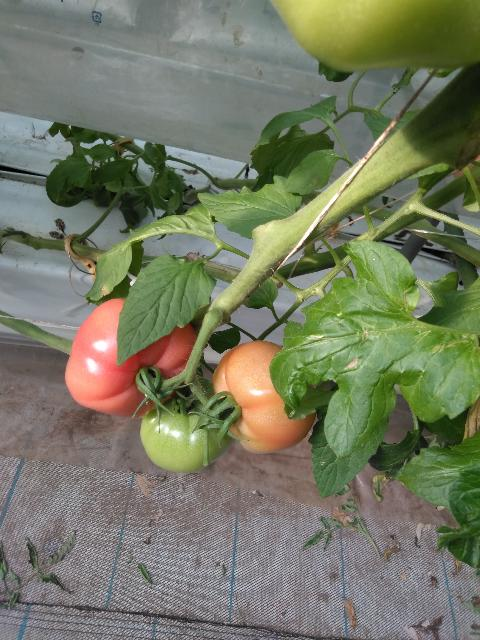b_fully_ripened: (65, 298, 197, 419)
b_green: (269, 1, 480, 72), (140, 376, 233, 473)
b_half_ripened: (212, 341, 317, 454)
